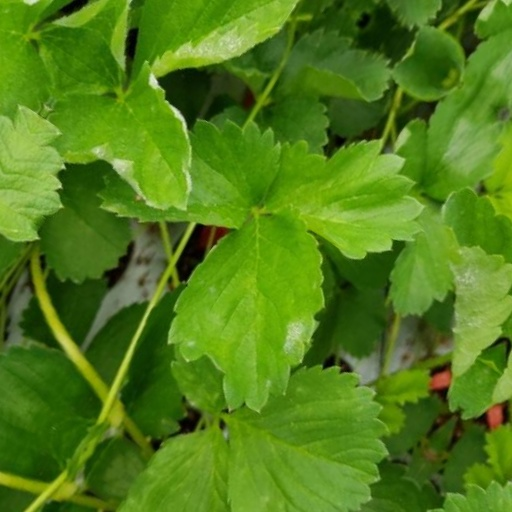Powdery Mildew Leaf: (211, 190, 358, 402), (10, 0, 156, 189), (1, 154, 175, 284), (381, 78, 504, 249)
